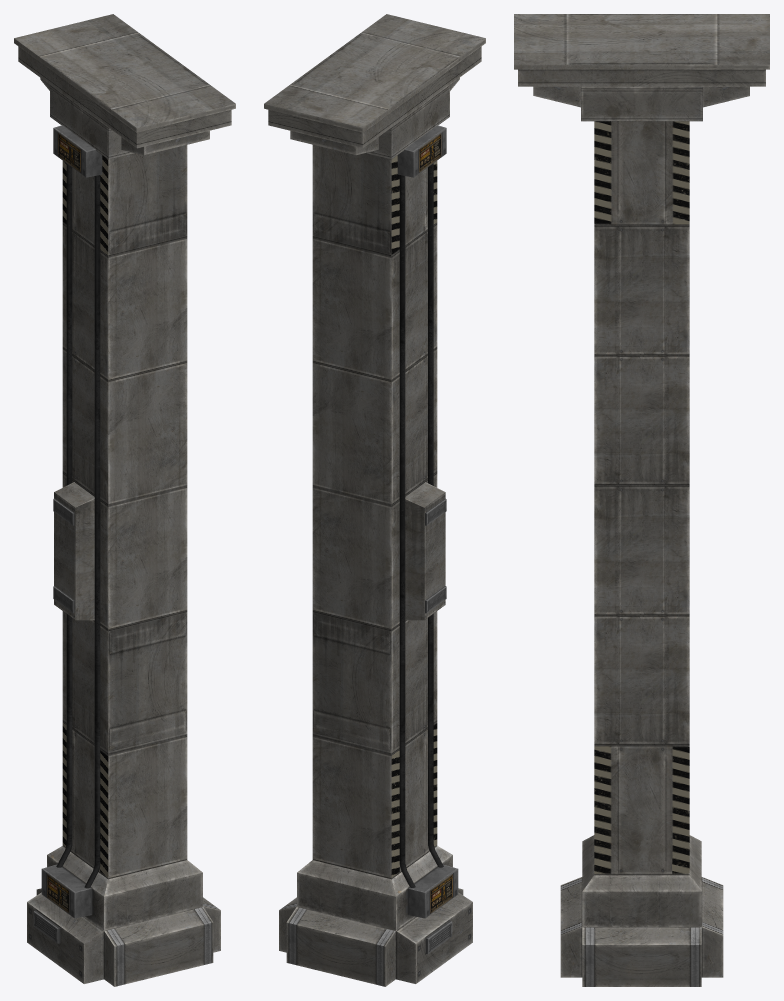
The model's file is CP_Metro_Colon_03.fbx.
3 renders of one model, left to right at view 1: azimuth 30°, elevation 25°; view 2: azimuth 150°, elevation 25°; view 3: azimuth 270°, elevation 25°, orthographic. The views are drawn at different scales.
Visible parts, largest first — view 1: CP_Metro_Colon_03_LOD0; view 2: CP_Metro_Colon_03_LOD0; view 3: CP_Metro_Colon_03_LOD0.
Part boxes in pixels (left/top/right/bottom): CP_Metro_Colon_03_LOD0: left=14, top=14, right=235, bottom=986; CP_Metro_Colon_03_LOD0: left=264, top=14, right=485, bottom=986; CP_Metro_Colon_03_LOD0: left=514, top=14, right=769, bottom=986.
Size of what is drawn, in the model's own units: 235 by 1405 by 357.
